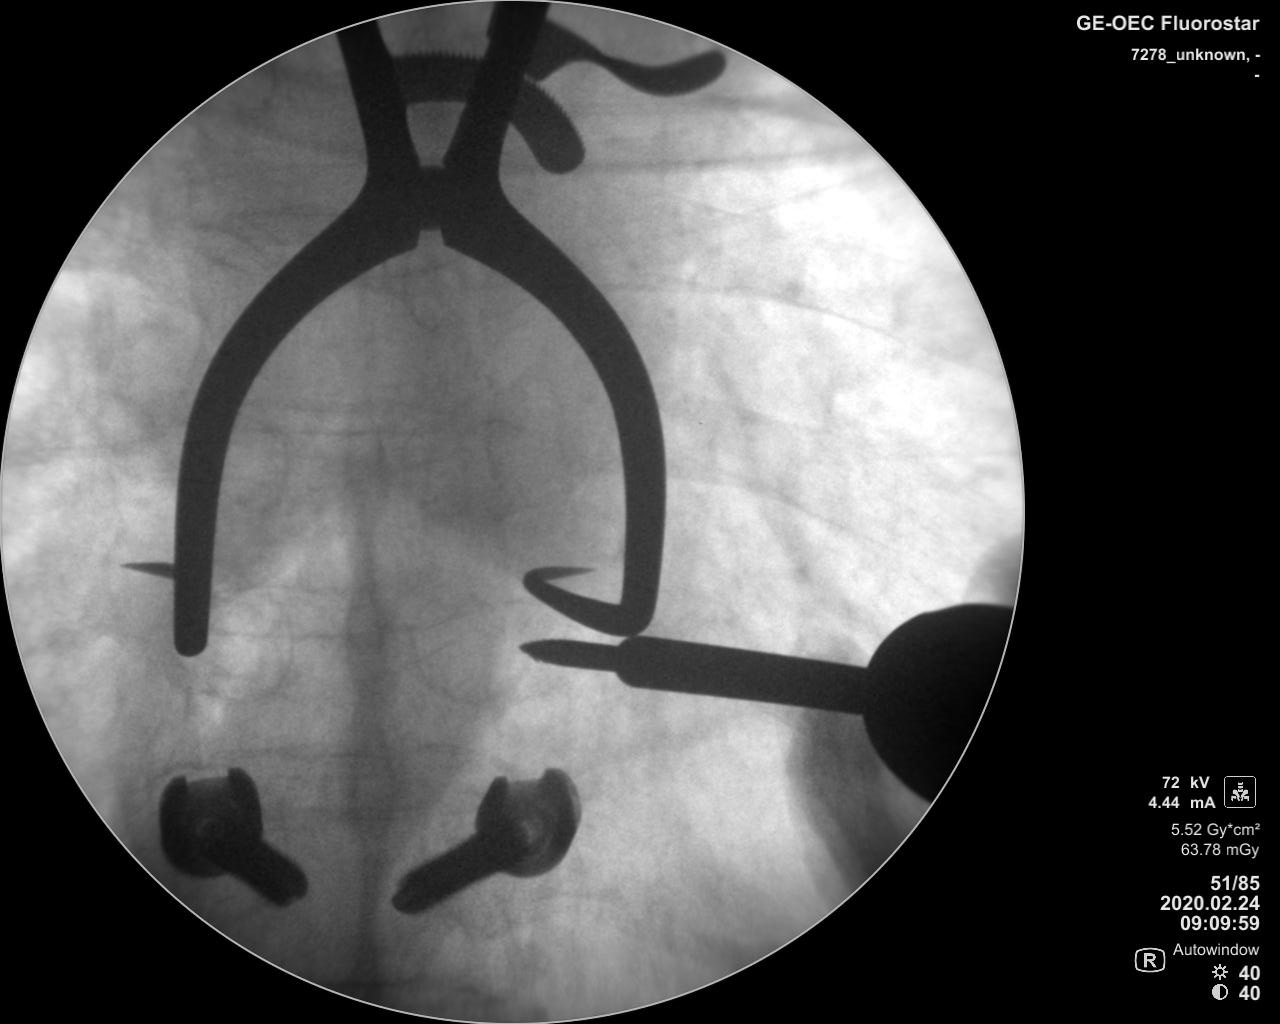eyes: (412, 579, 523, 707), (207, 591, 296, 709), (225, 417, 282, 516)
line: (210, 616, 455, 636), (231, 744, 463, 765)
nose: (332, 388, 390, 534), (335, 559, 389, 709), (341, 720, 398, 854)
